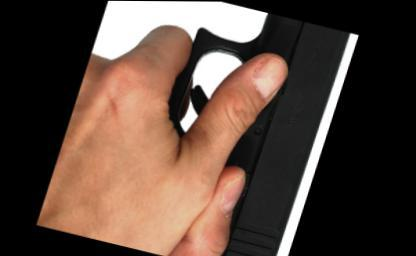pistol: (121, 0, 363, 255)
